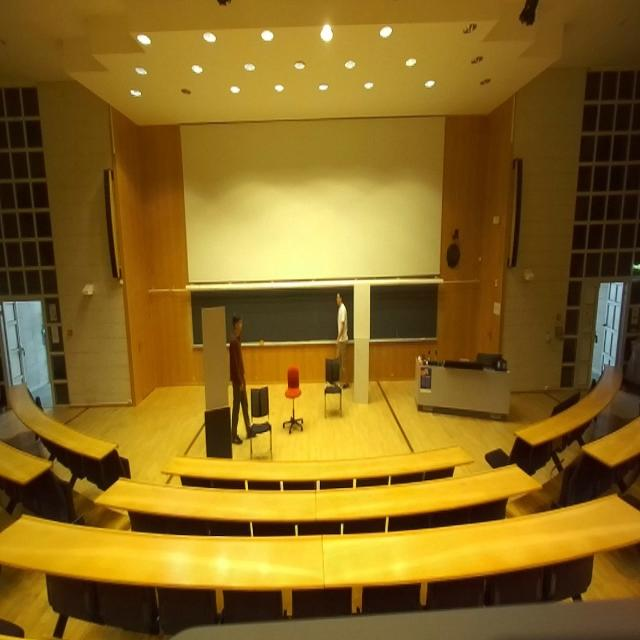person: (229, 312, 256, 445), (335, 290, 349, 389)
